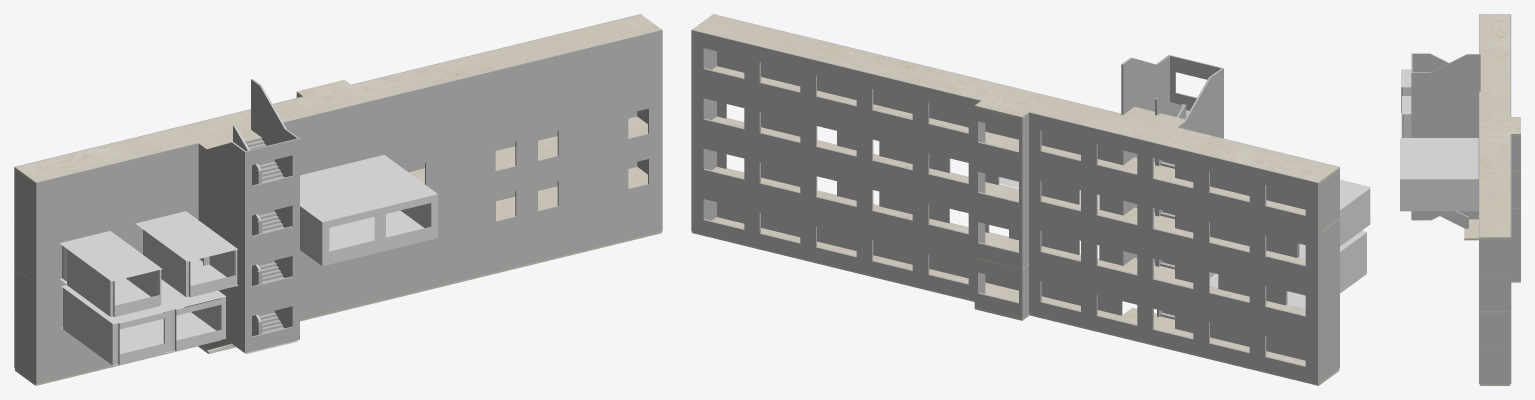
File: CORRIDOR01.fbx
3 renders of one model, left to right at view 1: azimuth 30°, elevation 25°; view 2: azimuth 150°, elevation 25°; view 3: azimuth 270°, elevation 25°, orthographic. The views are drawn at different scales.
Visible parts, largest first — view 1: wall_2, wall_1, wall, wall_3, floor_1, shadow, wall.001, wall_men, wall_women, ceiling, ceiling.001, floor.003 (+10 smaller); view 2: wall_2, wall_1, wall, wall_3, floor_1, floor_2, floor_3, floor_4, floor, wall.001, wall_men, stair_1; view 3: floor_1, shadow, wall_2, wall, wall_1, wall_3, floor_2, stair_2, wall_women, ceiling, ceiling.001.
Boxes of the visible parts, left/top/right/bottom form: wall_2: left=14, top=14, right=662, bottom=232; wall_1: left=14, top=181, right=662, bottom=383; wall: left=14, top=80, right=662, bottom=283; wall_3: left=14, top=130, right=662, bottom=333; floor_1: left=15, top=14, right=661, bottom=184; shadow: left=300, top=155, right=437, bottom=266; wall.001: left=63, top=288, right=225, bottom=365; wall_men: left=62, top=245, right=161, bottom=316; wall_women: left=143, top=229, right=237, bottom=297; ceiling: left=59, top=231, right=162, bottom=281; ceiling.001: left=135, top=211, right=237, bottom=261; floor.003: left=61, top=307, right=226, bottom=365; wall_2: left=691, top=14, right=1339, bottom=233; wall_1: left=691, top=168, right=1339, bottom=383; wall: left=691, top=80, right=1339, bottom=283; wall_3: left=691, top=118, right=1339, bottom=333; floor_1: left=692, top=14, right=1339, bottom=184; floor_2: left=692, top=217, right=1339, bottom=385; floor_3: left=712, top=167, right=1305, bottom=315; floor_4: left=712, top=66, right=1339, bottom=234; floor: left=712, top=116, right=1326, bottom=284; wall.001: left=1210, top=230, right=1366, bottom=304; wall_men: left=1298, top=188, right=1370, bottom=256; stair_1: left=1133, top=98, right=1189, bottom=168; floor_1: left=1480, top=14, right=1520, bottom=238; shadow: left=1400, top=138, right=1478, bottom=211; wall_2: left=1411, top=14, right=1520, bottom=273; wall: left=1411, top=91, right=1520, bottom=310; wall_1: left=1411, top=165, right=1520, bottom=384; wall_3: left=1448, top=128, right=1520, bottom=347; floor_2: left=1464, top=219, right=1520, bottom=385; stair_2: left=1412, top=211, right=1468, bottom=228; wall_women: left=1402, top=114, right=1411, bottom=137; ceiling: left=1401, top=69, right=1411, bottom=87; ceiling.001: left=1402, top=96, right=1411, bottom=114.
Size of the model in its own units: 5518 by 2136 by 1262.
